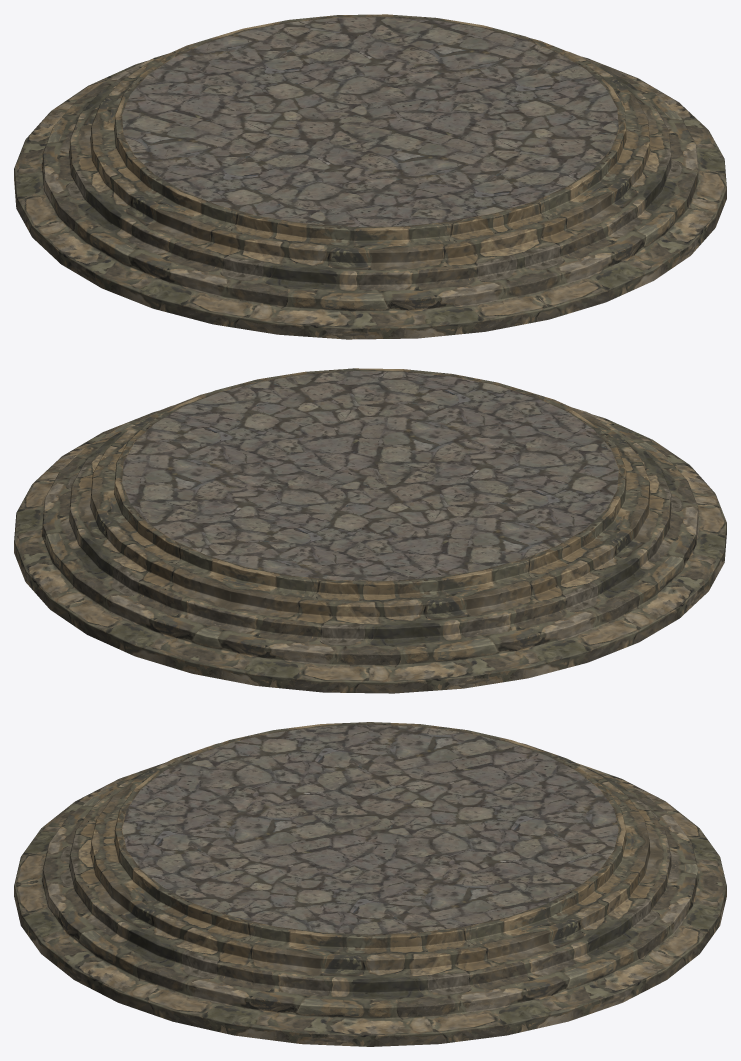
The model's file is CastlePlatforms.fbx.
The picture shows the model from 3 angles, top to bottom: view 1: azimuth 30°, elevation 25°; view 2: azimuth 150°, elevation 25°; view 3: azimuth 270°, elevation 25°; orthographic projection.
Parts seen in each view (by area): view 1: CaveCastleCircularPlatform_Big; view 2: CaveCastleCircularPlatform_Big; view 3: CaveCastleCircularPlatform_Big.
Part boxes in pixels (x1,y1,x2,y2): CaveCastleCircularPlatform_Big: (14,14,726,339); CaveCastleCircularPlatform_Big: (14,368,726,693); CaveCastleCircularPlatform_Big: (14,722,726,1046).
Size of the model in its own units: 11.51 by 1.46 by 11.51.
